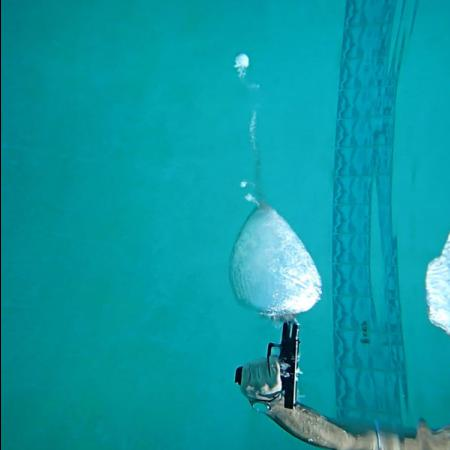Pistol: (231, 322, 307, 408)
